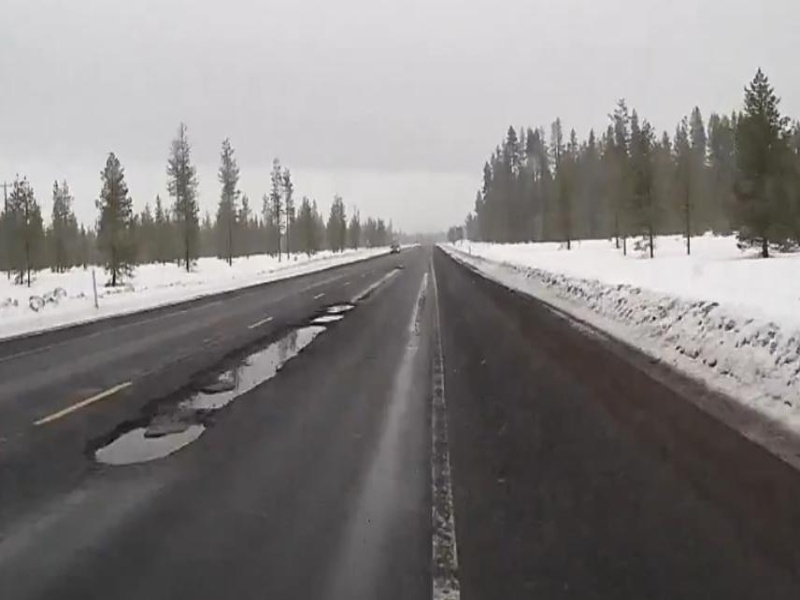pothole: (181, 324, 331, 416), (87, 414, 211, 471), (323, 299, 363, 313), (305, 313, 350, 324)
